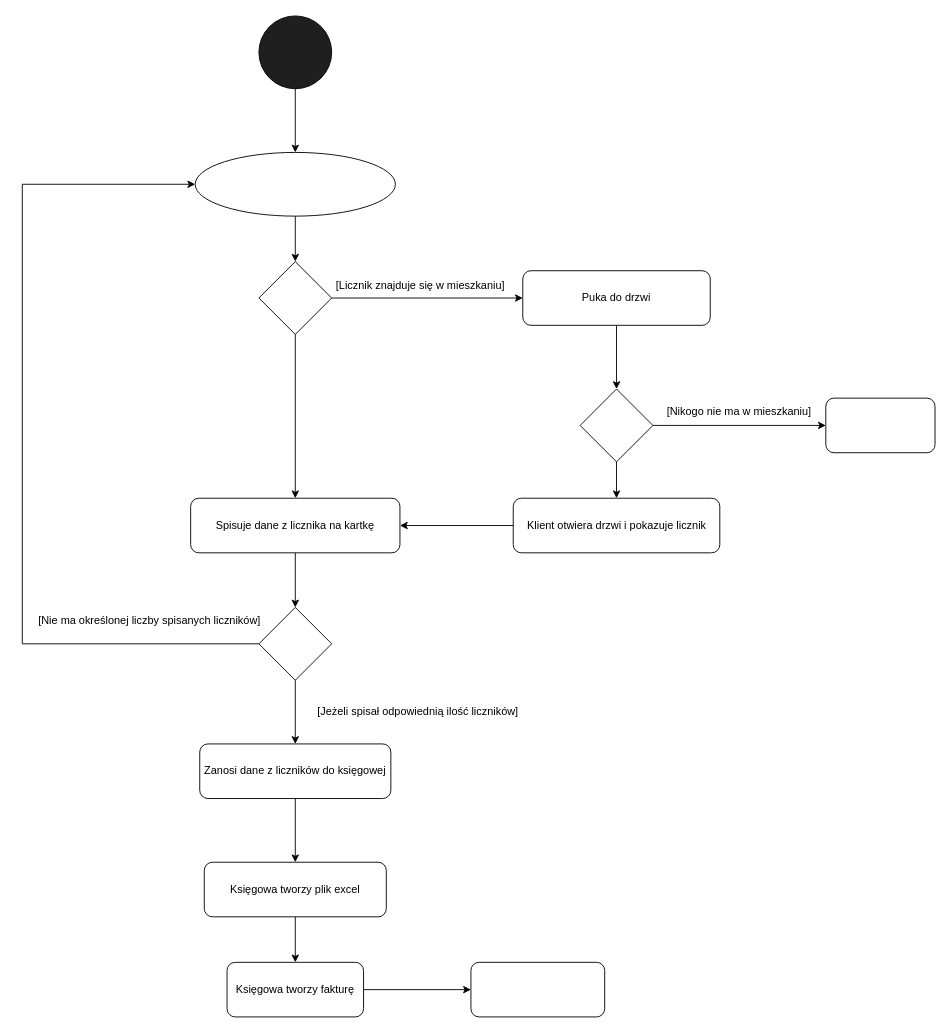
This 951x1033 diagram has some shape labels left out. The shapes that lost their labels are listed below. From the top down, each one's centre as x and y in pixels, then its label:
point (294, 184): Pracownik idzie pod adres
point (880, 425): Zostawia awizo
point (537, 989): Faktura trafia do klientów
